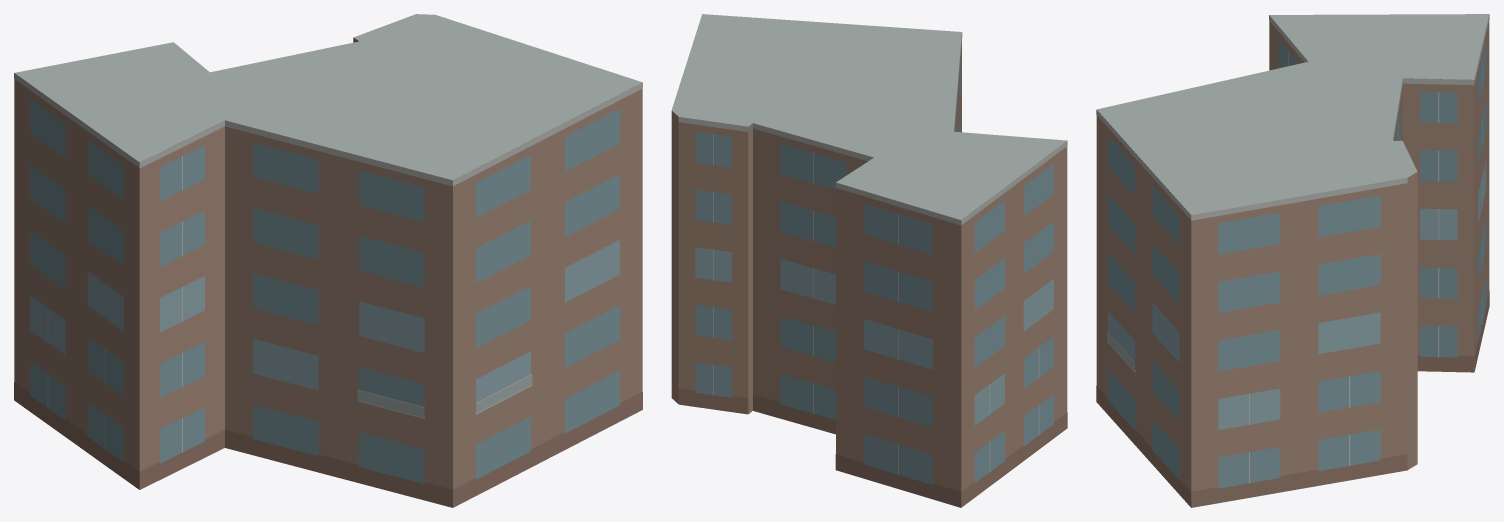
The model's file is survey-upis-32752498.glb.
3 renders of one model, left to right at view 1: azimuth 30°, elevation 25°; view 2: azimuth 150°, elevation 25°; view 3: azimuth 270°, elevation 25°, orthographic. The views are drawn at different scales.
Parts seen in each view (by area): view 1: survey-upis-32752498.tmp; view 2: survey-upis-32752498.tmp; view 3: survey-upis-32752498.tmp.
Boxes of the visible parts, bbox=[...] form: survey-upis-32752498.tmp: bbox=[14, 14, 642, 507]; survey-upis-32752498.tmp: bbox=[671, 14, 1067, 507]; survey-upis-32752498.tmp: bbox=[1096, 14, 1489, 507].
Bounding box in the file's own units: 19.41 × 13.15 × 16.01.
